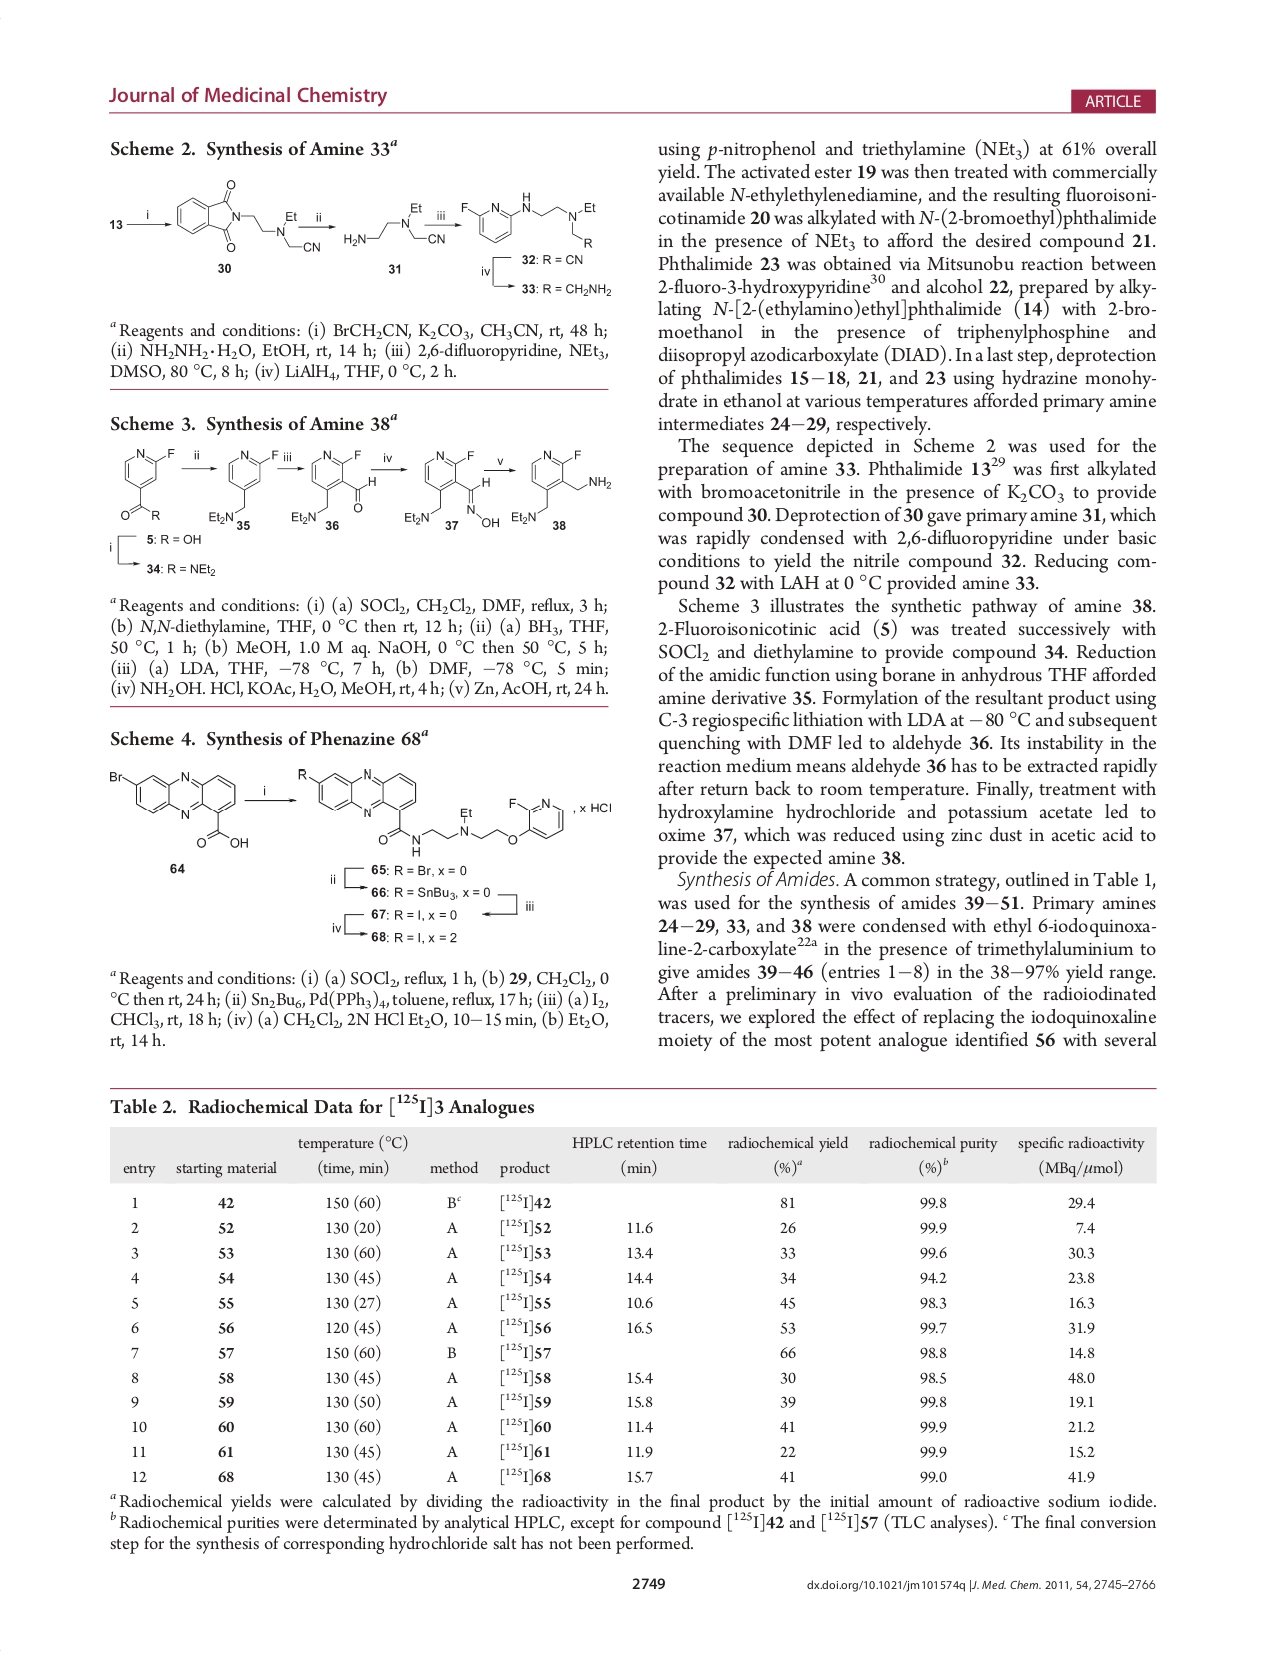exist_molecular: (295, 763, 570, 863), (102, 763, 250, 852), (172, 177, 320, 255), (457, 188, 598, 251), (509, 446, 614, 525), (402, 449, 501, 531), (290, 449, 376, 527), (338, 197, 448, 251), (205, 447, 278, 524), (116, 443, 180, 523)
